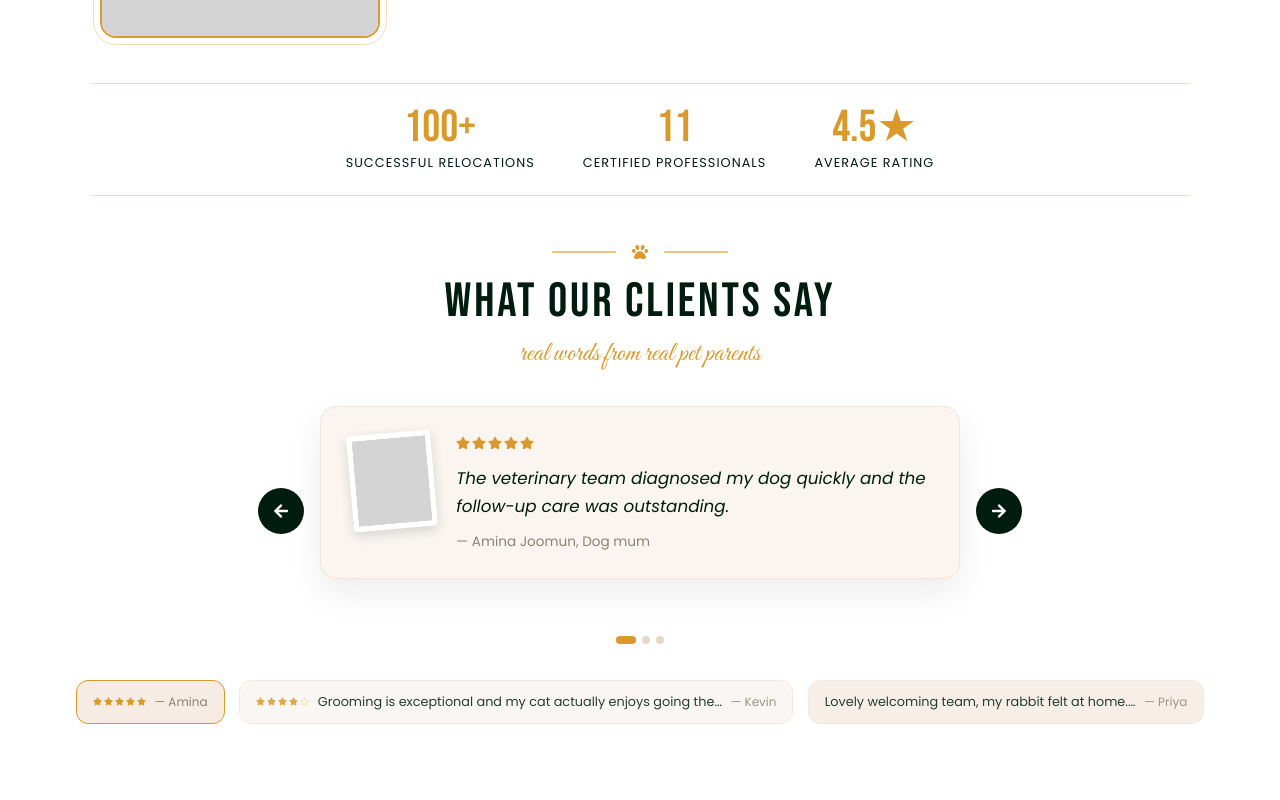
Test: StatsSection (trust story band) › renders prev/next arrows that navigate testimonials and stop auto-advance
(page scrolled)
Expected: the text "follow-up care was outstanding" is shown, [456,466,926,518]
Click the button named "Next testimonial".
click(999, 511)  # box [976,488,1022,534]
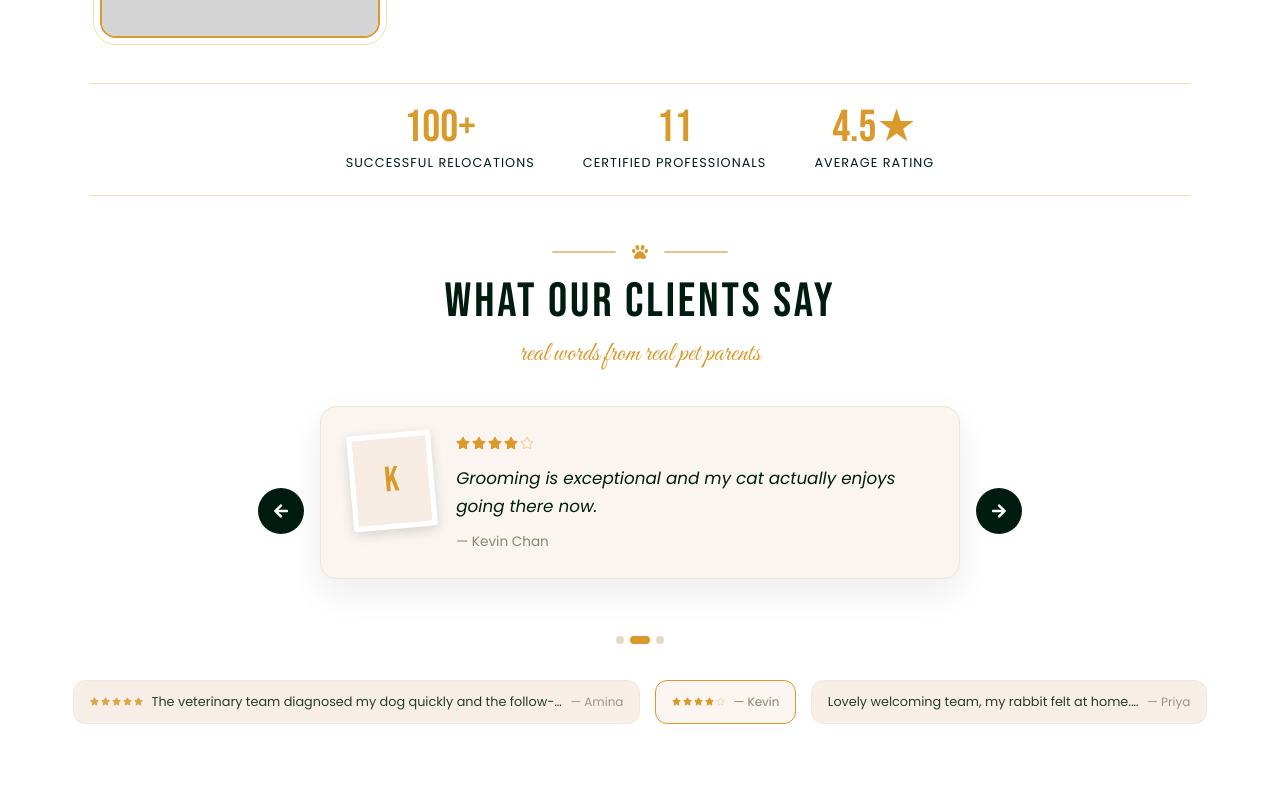
Result: the text "enjoys going there now" is shown at [456,466,896,518]
Click the button named "Previous testimonial".
click(281, 511)  # box [258,488,304,534]
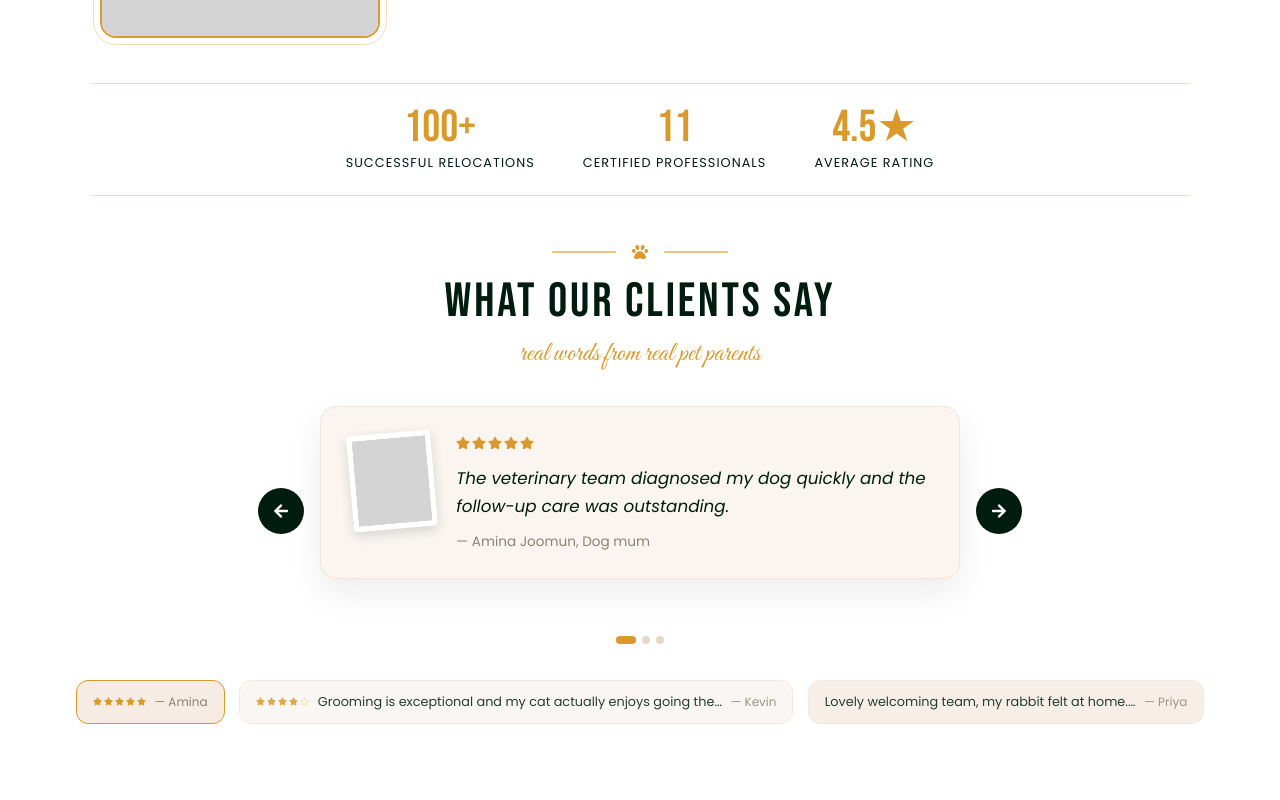
Result: the text "follow-up care was outstanding" is shown at [456,466,926,518]
